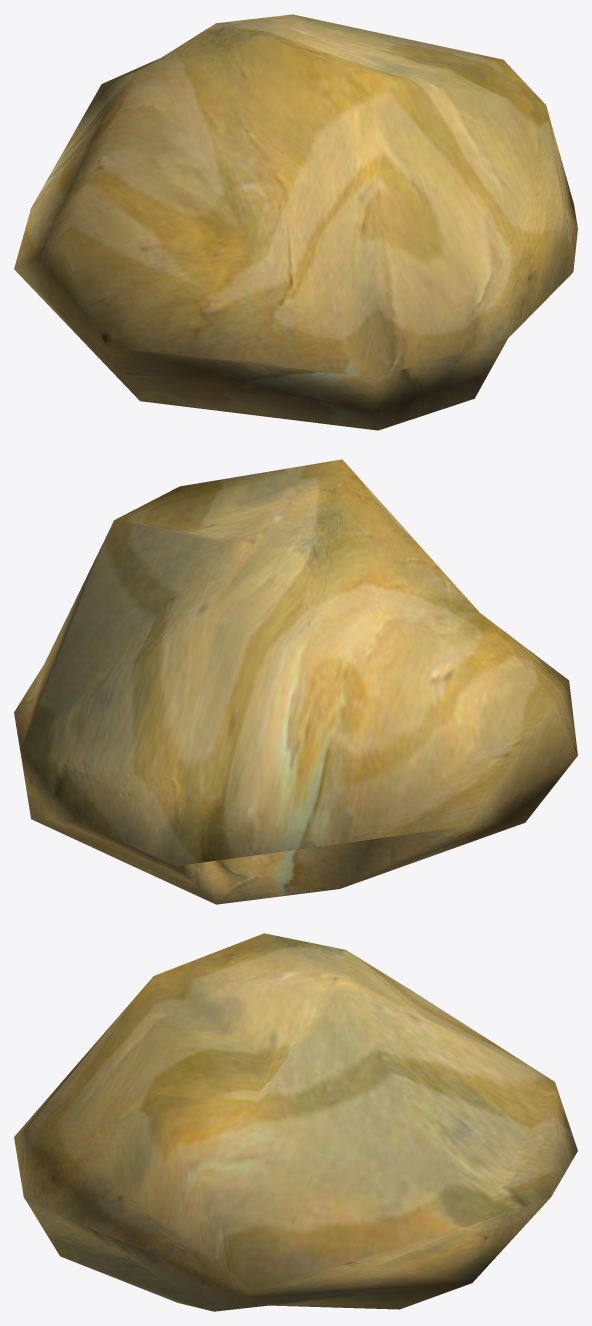
The model's file is rock2.FBX.
The picture shows the model from 3 angles, top to bottom: view 1: azimuth 30°, elevation 25°; view 2: azimuth 150°, elevation 25°; view 3: azimuth 270°, elevation 25°; orthographic projection. The views are drawn at different scales.
Parts seen in each view (by area): view 1: rock2; view 2: rock2; view 3: rock2.
Boxes of the visible parts, x1,y1,x2,y2 form: rock2: (14,14,577,430); rock2: (14,459,577,904); rock2: (14,933,577,1311).
Bounding box in the file's own units: 6.32 × 6.6 × 4.42.
